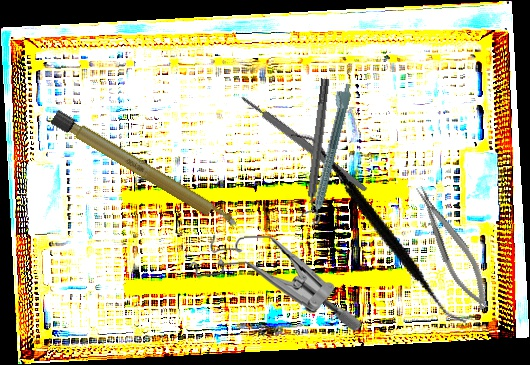Fixation Ring: (296, 77, 339, 225)
Handpiece: (302, 81, 354, 227)
Needle Holder: (409, 178, 497, 316)
Scalpel Handle: (49, 109, 241, 234), (238, 92, 370, 195)
Spatula Surgical: (250, 129, 507, 327)
Speculum: (186, 229, 361, 336)
